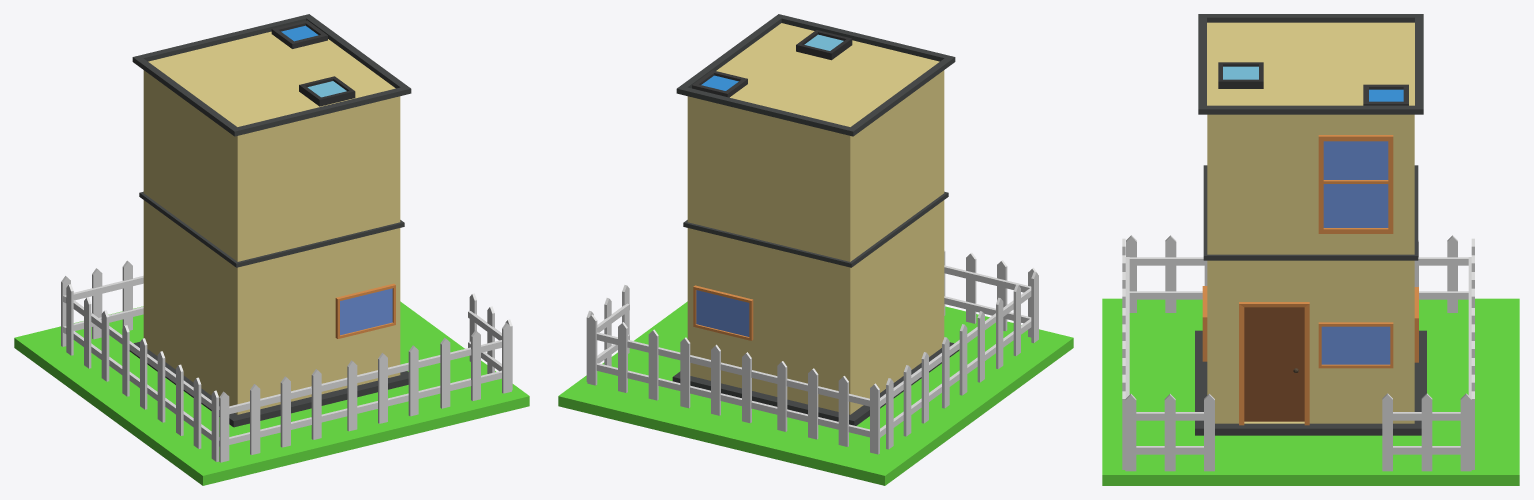
The model's file is Building1.glb.
The picture shows the model from 3 angles, left to right: view 1: azimuth 30°, elevation 25°; view 2: azimuth 150°, elevation 25°; view 3: azimuth 270°, elevation 25°; orthographic projection. The views are drawn at different scales.
Parts seen in each view (by area): view 1: Cube, Cube.003, Cube.013, Cube.012, Cube.015, Cube.014, Cube.011, Cube.017, Cube.016, Cube.018, Cube.019, Cube.001 (+7 smaller); view 2: Cube, Cube.003, Cube.007, Cube.008, Cube.010, Cube.020, Cube.021, Cube.011, Cube.017, Cube.009, Cube.016, Cube.001 (+7 smaller); view 3: Cube, Cube.003, Cube.006, Cube.005, Cube.016, Cube.001, Cube.022, Cube.023, Cube.002, Cube.011, Cube.018, Cube.020 (+5 smaller).
Boxes of the visible parts, x1,y1,x2,y2 form: Cube: [129, 14, 411, 427]; Cube.003: [14, 301, 529, 485]; Cube.013: [347, 345, 418, 431]; Cube.012: [440, 322, 511, 408]; Cube.015: [219, 376, 290, 462]; Cube.014: [251, 369, 321, 454]; Cube.011: [66, 284, 109, 381]; Cube.017: [122, 325, 165, 422]; Cube.016: [176, 364, 218, 461]; Cube.018: [219, 340, 501, 415]; Cube.019: [219, 370, 501, 446]; Cube.001: [299, 76, 355, 106]; Cube: [672, 14, 959, 425]; Cube.003: [558, 301, 1073, 485]; Cube.007: [587, 314, 658, 400]; Cube.008: [680, 337, 751, 423]; Cube.010: [808, 368, 879, 454]; Cube.020: [596, 332, 880, 407]; Cube.021: [596, 363, 880, 438]; Cube.011: [886, 352, 928, 449]; Cube.017: [942, 311, 984, 408]; Cube.009: [777, 361, 847, 446]; Cube.016: [996, 271, 1038, 369]; Cube.001: [796, 30, 852, 60]; Cube: [1195, 14, 1426, 435]; Cube.003: [1102, 298, 1519, 485]; Cube.006: [1382, 393, 1471, 471]; Cube.005: [1125, 393, 1214, 471]; Cube.016: [1126, 235, 1207, 312]; Cube.001: [1218, 62, 1263, 88]; Cube.022: [1127, 257, 1471, 265]; Cube.023: [1129, 291, 1468, 299]; Cube.002: [1363, 84, 1408, 105]; Cube.011: [1414, 235, 1457, 312]; Cube.018: [1125, 257, 1129, 398]; Cube.020: [1468, 257, 1471, 398].
Bounding box in the file's own units: 12 × 10.75 × 12.
